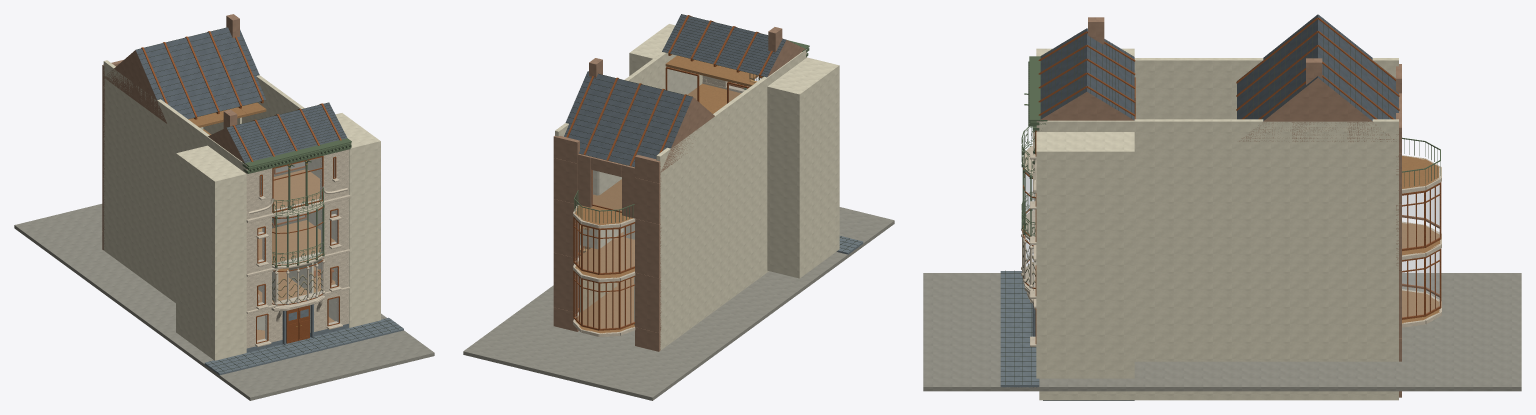
3 renders of one model, left to right at view 1: azimuth 30°, elevation 25°; view 2: azimuth 150°, elevation 25°; view 3: azimuth 270°, elevation 25°, orthographic. The views are drawn at different scales.
Parts seen in each view (by area): view 1: 01_Complete_Architecture; view 2: 01_Complete_Architecture; view 3: 01_Complete_Architecture.
Boxes of the visible parts, box(x1,y1,x2,y2) form: 01_Complete_Architecture: box(14, 14, 434, 400); 01_Complete_Architecture: box(463, 14, 894, 400); 01_Complete_Architecture: box(923, 14, 1521, 400).
Size of the model in its own units: 14 by 19.38 by 31.
23 materials, 15 textured.
